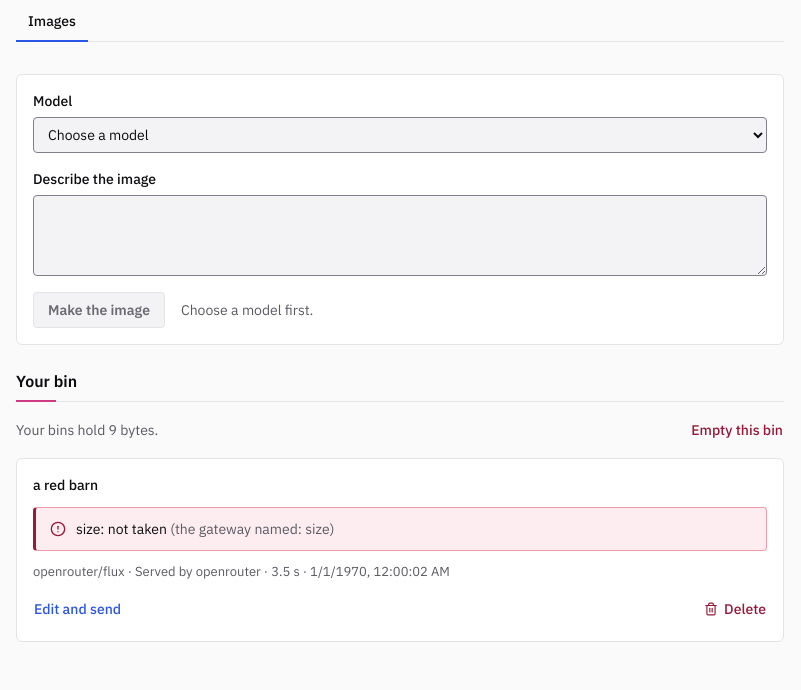
marks the field a refusal named when the request is edited
The image size is (801, 690).
(page scrolled)
Expected: the text "(the gateway named: size)" is shown, [167, 520, 334, 538]
Click the button "Edit and send": (78, 609) [25, 593, 130, 625]
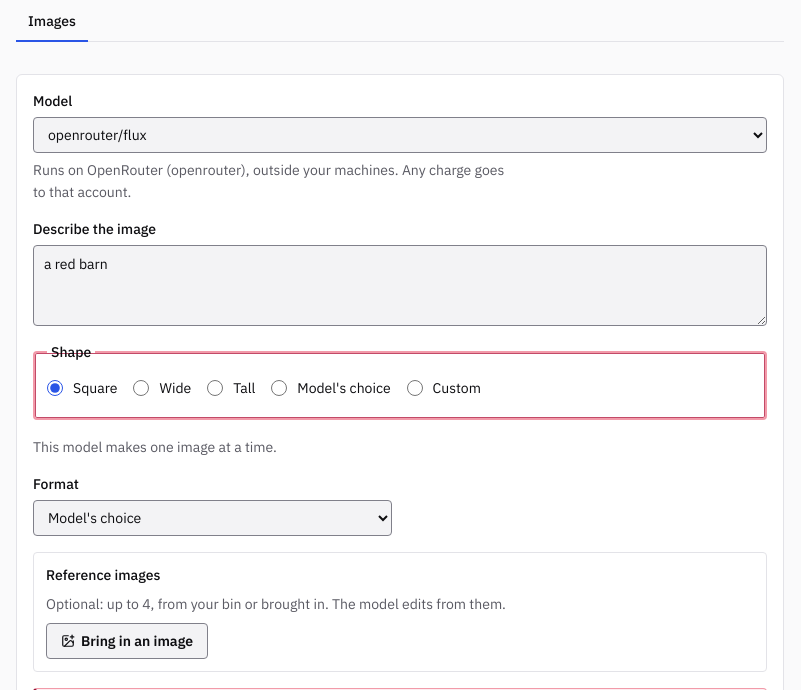
Now the text box with test id "image-prompt" holds "a red barn", box [33, 245, 767, 326]
